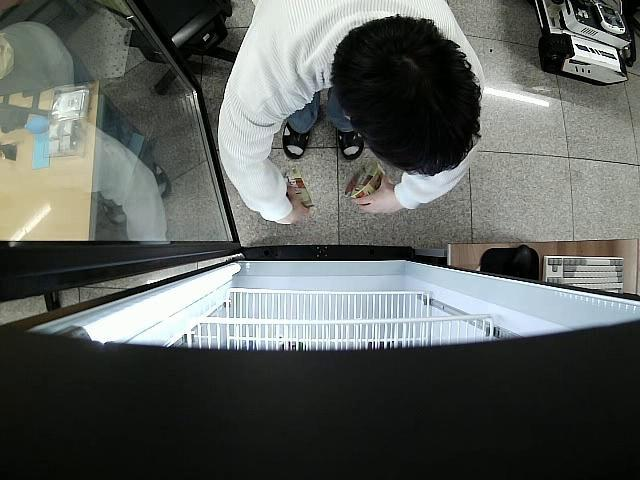03_chapagetti_L: (340, 160, 384, 201), (282, 168, 316, 211)
